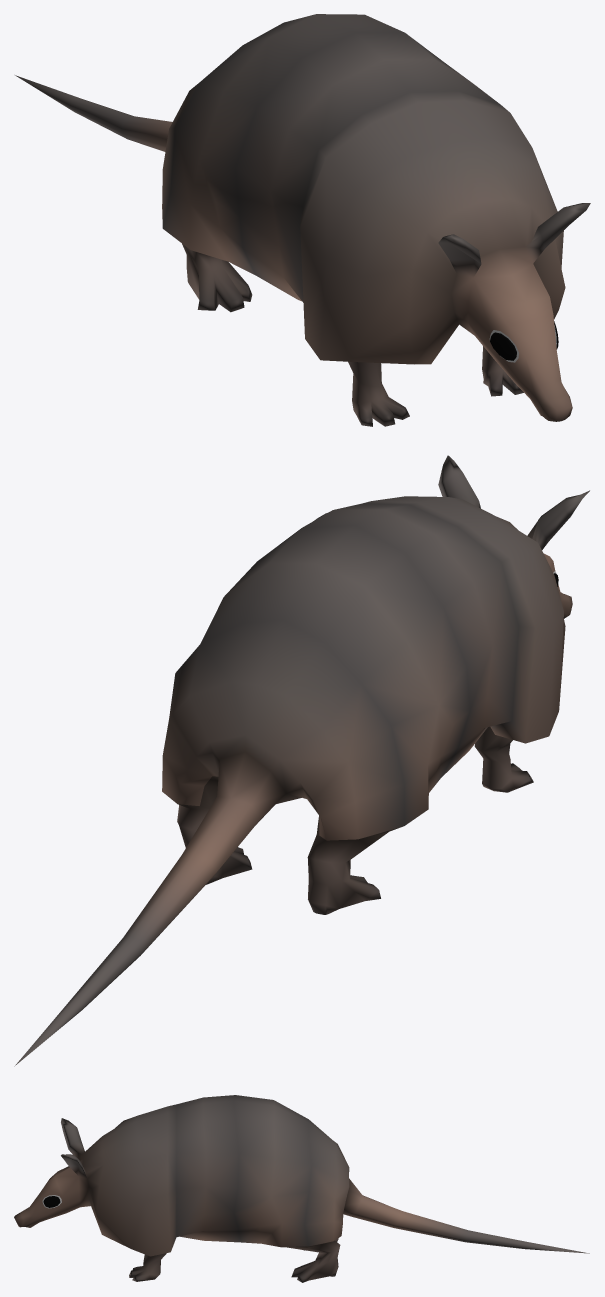
File: Armadillo.gltf
3 views of the same model, one above another, from view 1: azimuth 30°, elevation 25°; view 2: azimuth 150°, elevation 25°; view 3: azimuth 270°, elevation 25° (orthographic). The views are drawn at different scales.
Visible parts, largest first — view 1: base.051; view 2: base.051; view 3: base.051.
Part boxes in pixels (x1=…): base.051: x1=15, y1=14, x2=590, y2=426; base.051: x1=14, y1=455, x2=589, y2=1066; base.051: x1=14, y1=1095, x2=589, y2=1282.
Size of the model in its own units: 0.448 by 0.538 by 1.77.
